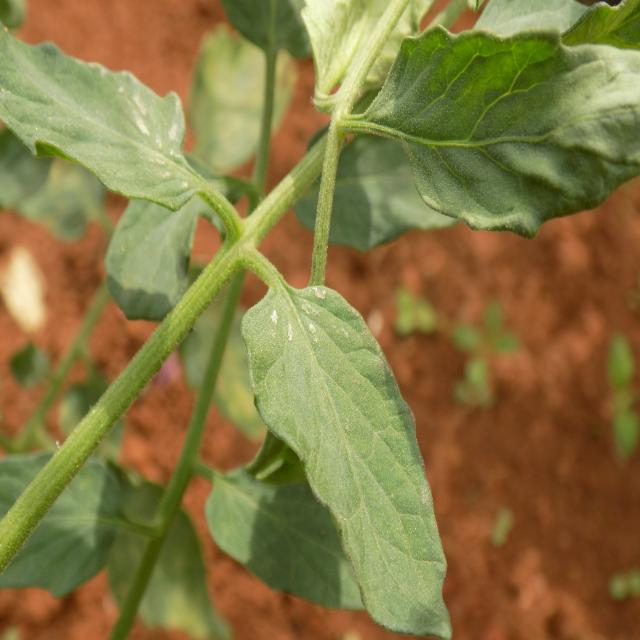tomato_healthy: (244, 282, 456, 640)
